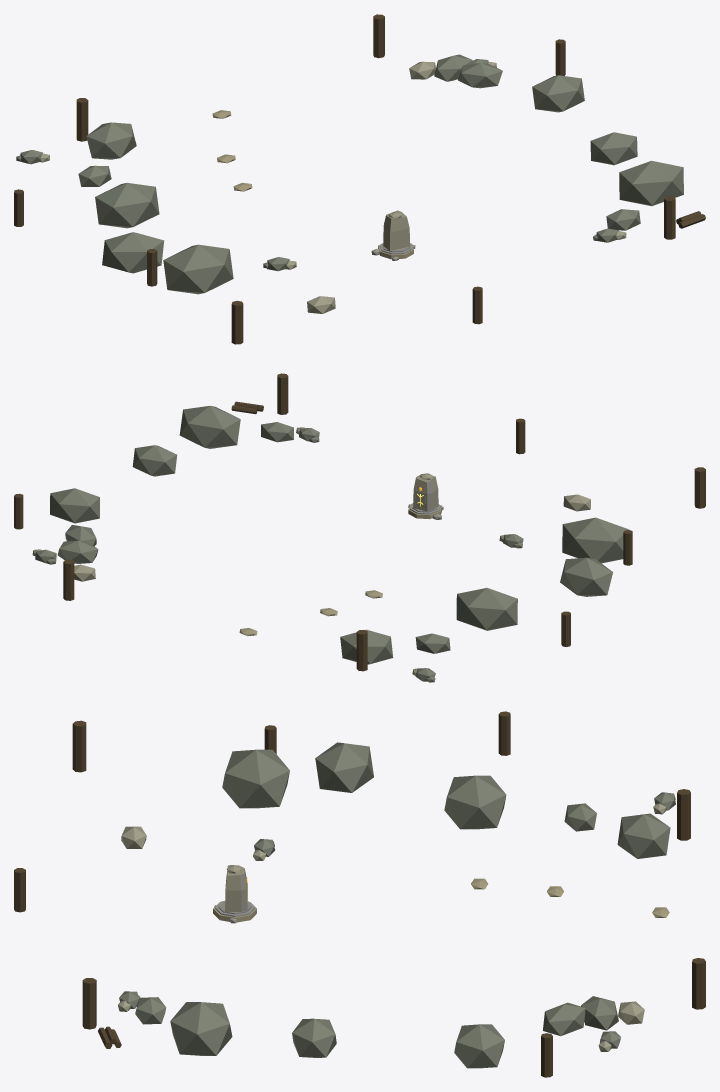
File: entry_woodland_refuge_solid_props.fbx
3 views of the same model, one above another, from view 1: azimuth 30°, elevation 25°; view 2: azimuth 150°, elevation 25°; view 3: azimuth 270°, elevation 25° (orthographic). The views are drawn at different scales.
Visible parts, largest first — view 1: chunk_entry_woodland_refuge__PropsSolid; view 2: chunk_entry_woodland_refuge__PropsSolid; view 3: chunk_entry_woodland_refuge__PropsSolid.
Boxes of the visible parts, box(x1,y1,x2,y2) form: chunk_entry_woodland_refuge__PropsSolid: box(14, 14, 705, 344); chunk_entry_woodland_refuge__PropsSolid: box(14, 373, 705, 682); chunk_entry_woodland_refuge__PropsSolid: box(14, 711, 705, 1077).
Size of the model in its own units: 184 by 19.05 by 164.
